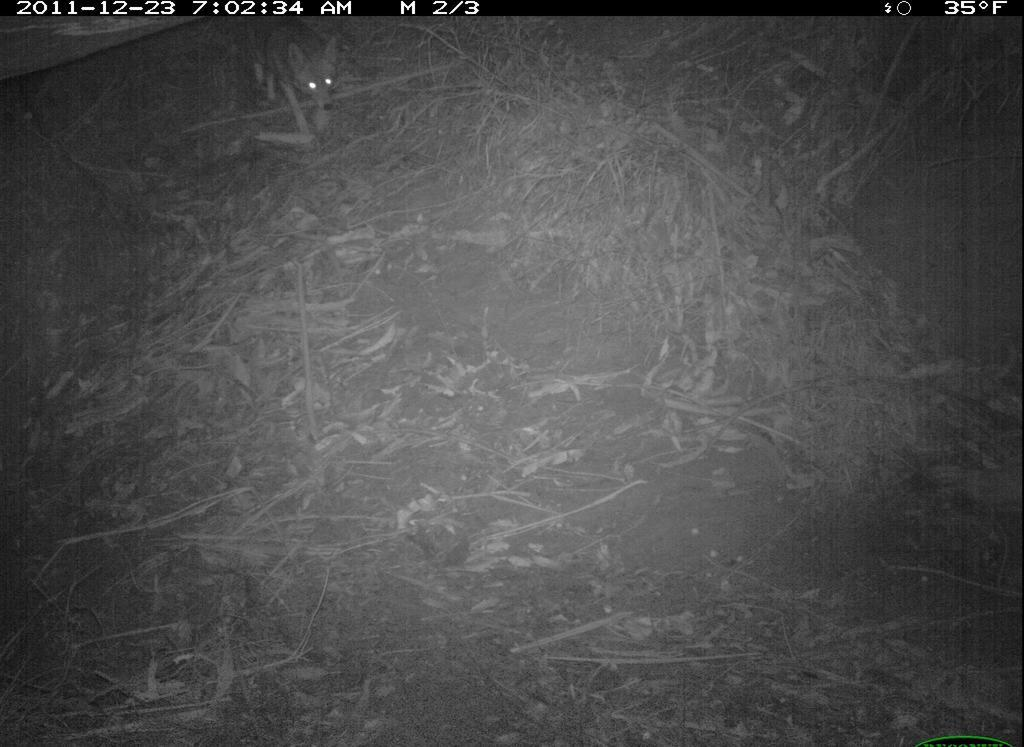coyote: (246, 34, 369, 154)
